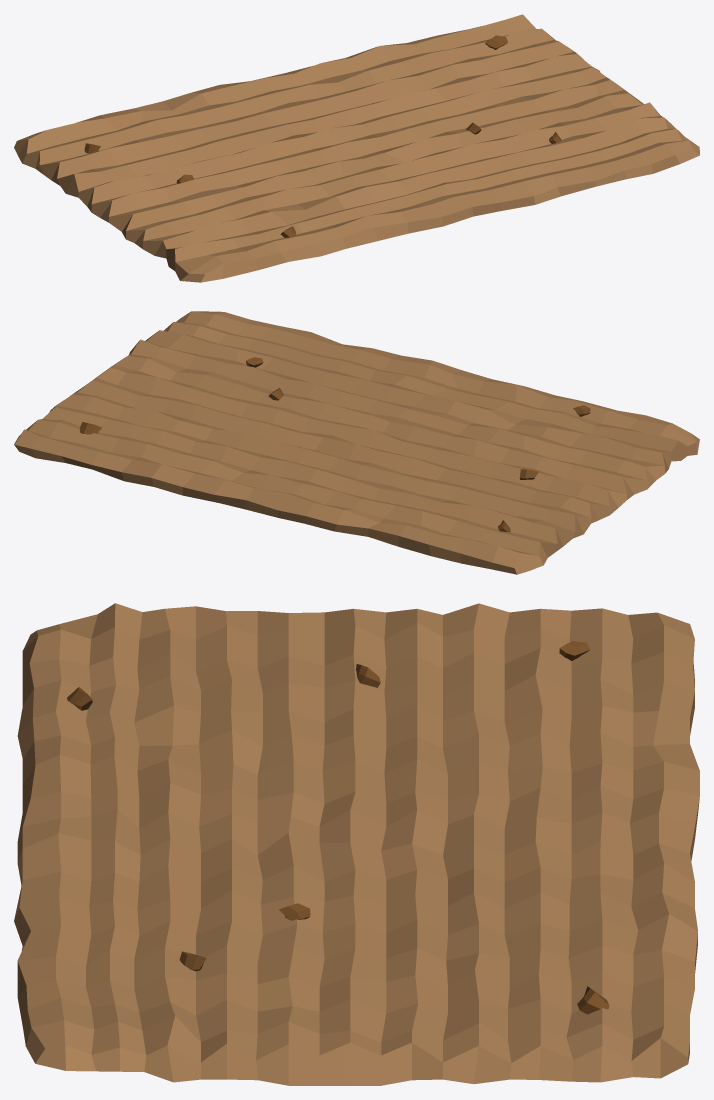
Rendered from Veld.fbx.
3 renders of one model, top to bottom at view 1: azimuth 30°, elevation 25°; view 2: azimuth 150°, elevation 25°; view 3: azimuth 270°, elevation 25°, orthographic. The views are drawn at different scales.
Parts seen in each view (by area): view 1: Veld; view 2: Veld; view 3: Veld.
Boxes of the visible parts, x1,y1,x2,y2 form: Veld: [14, 14, 699, 282]; Veld: [14, 311, 699, 574]; Veld: [14, 603, 699, 1085].
Size of the model in its own units: 10.85 by 17.2 by 0.801.
